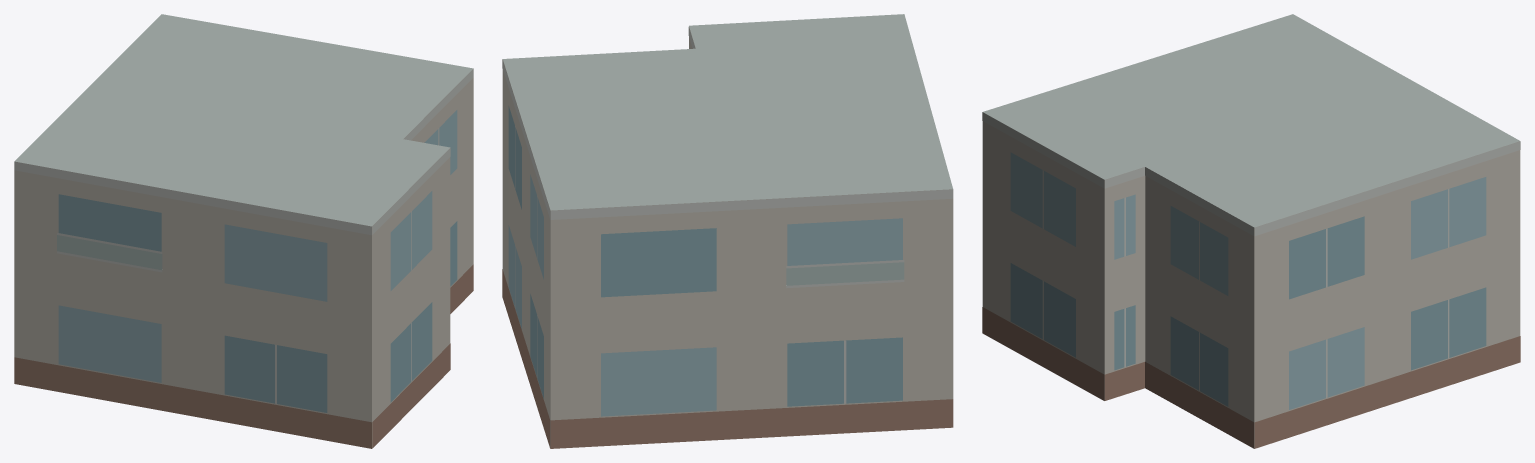
File: survey-upis-32807238.glb
3 views of the same model, side by side, from view 1: azimuth 30°, elevation 25°; view 2: azimuth 150°, elevation 25°; view 3: azimuth 270°, elevation 25° (orthographic). The views are drawn at different scales.
Parts seen in each view (by area): view 1: survey-upis-32807238.tmp; view 2: survey-upis-32807238.tmp; view 3: survey-upis-32807238.tmp.
Boxes of the visible parts, x1,y1,x2,y2 form: survey-upis-32807238.tmp: [14, 14, 473, 448]; survey-upis-32807238.tmp: [502, 14, 953, 448]; survey-upis-32807238.tmp: [982, 14, 1520, 448].
Size of the model in its own units: 12.63 by 6.1 by 13.45.
